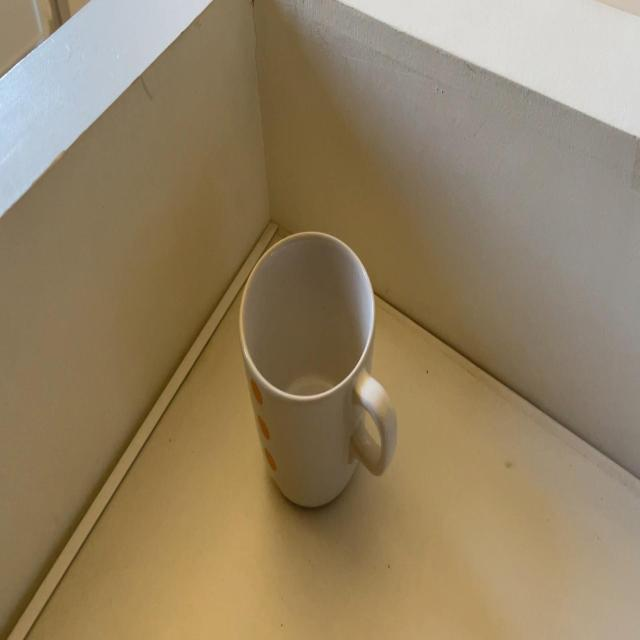cup: (238, 233, 394, 508)
